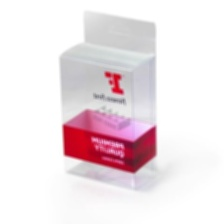plastic_box: (52, 4, 168, 195)
